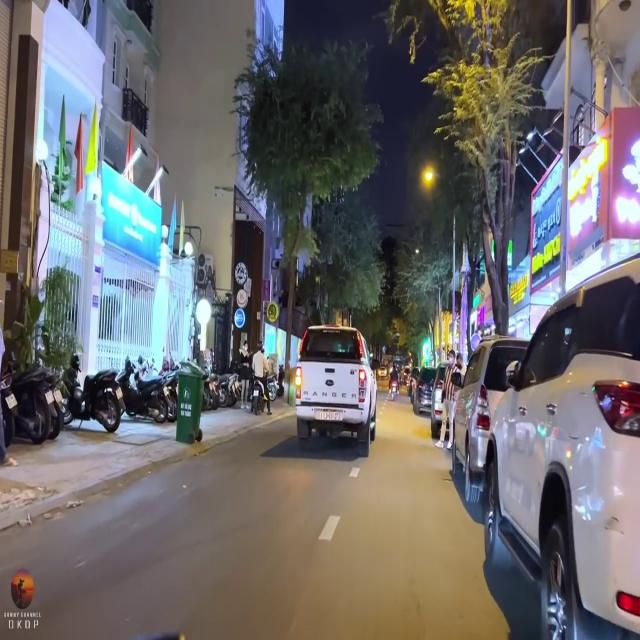bien_trang: (313, 409, 345, 423)
